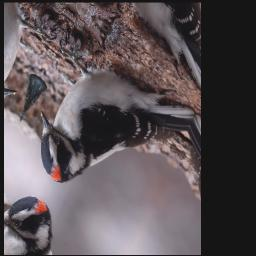Woodpecker: (17, 18, 196, 246)
